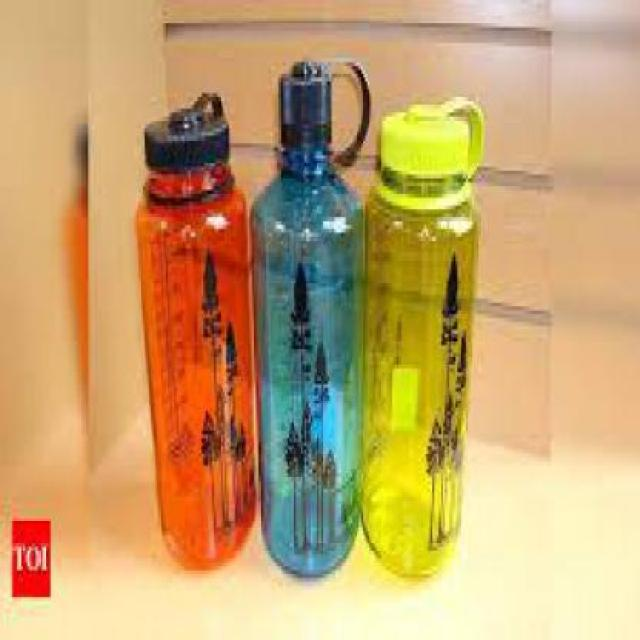Drinking: (104, 93, 258, 575), (367, 62, 488, 613)
